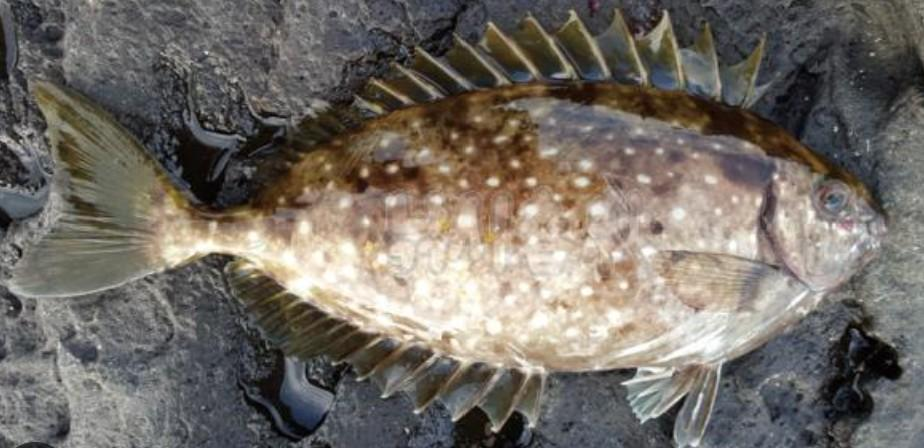fish: (12, 9, 884, 447), (449, 274, 468, 280)
